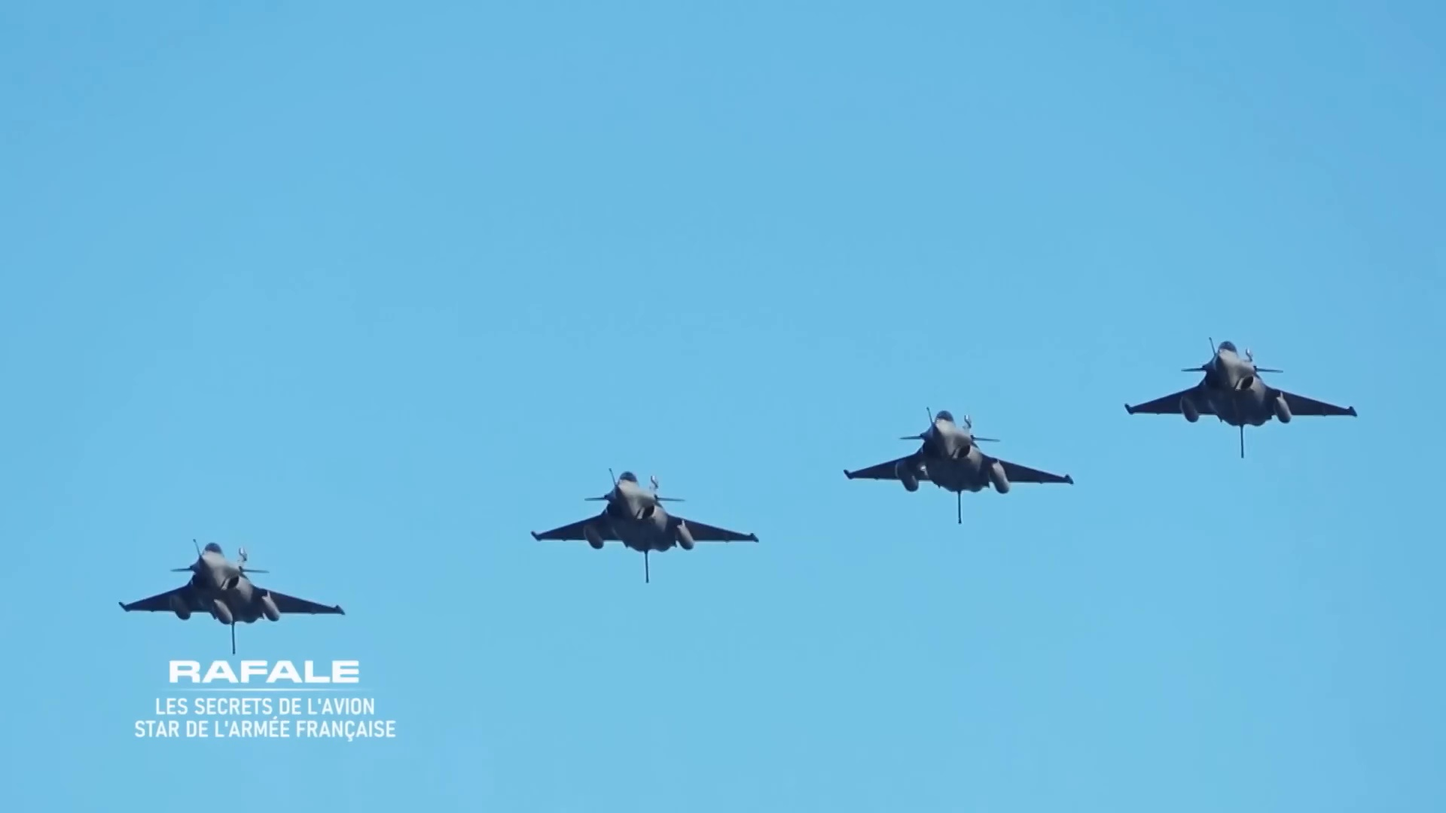Rafale: (1122, 336, 1357, 459), (846, 406, 1074, 523), (534, 467, 759, 580), (120, 539, 342, 651)
